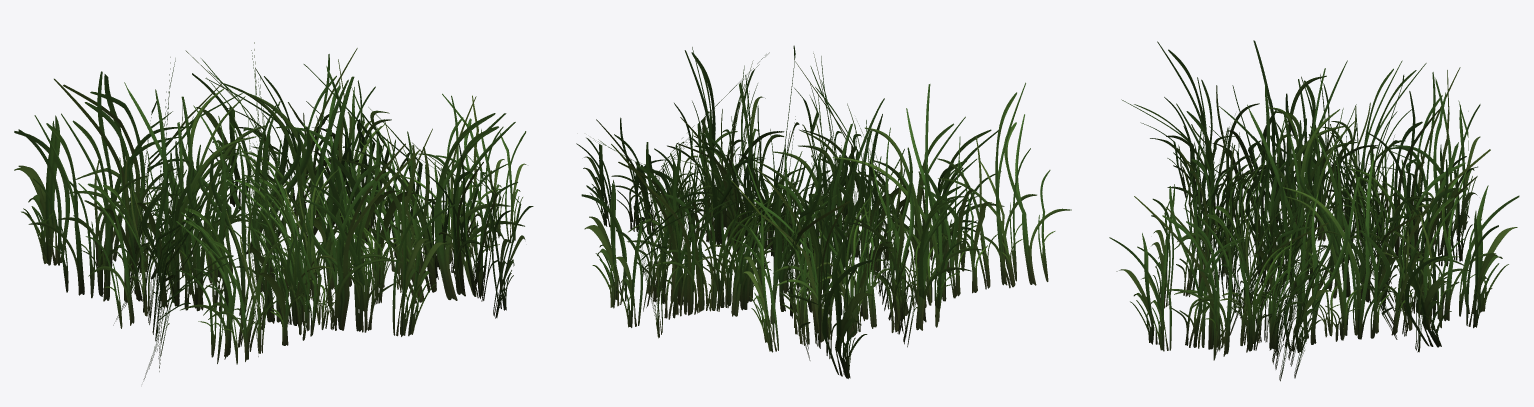
File: grass.obj
3 renders of one model, left to right at view 1: azimuth 30°, elevation 25°; view 2: azimuth 150°, elevation 25°; view 3: azimuth 270°, elevation 25°, orthographic. The views are drawn at different scales.
Visible parts, largest first — view 1: GrassPatch01, GrassPatch02, GrassPatch01_LoD_GrassPatch01.002, GrassPatch02_LoD_GrassPatch02.001; view 2: GrassPatch01, GrassPatch01_LoD_GrassPatch01.002, GrassPatch02, GrassPatch02_LoD_GrassPatch02.001; view 3: GrassPatch02, GrassPatch01, GrassPatch02_LoD_GrassPatch02.001, GrassPatch01_LoD_GrassPatch01.002.
Boxes of the visible parts, x1,y1,x2,y2 form: GrassPatch01: [14, 50, 510, 363]; GrassPatch02: [28, 64, 533, 381]; GrassPatch01_LoD_GrassPatch01.002: [18, 42, 524, 364]; GrassPatch02_LoD_GrassPatch02.001: [58, 57, 511, 371]; GrassPatch01: [581, 45, 1004, 378]; GrassPatch01_LoD_GrassPatch01.002: [586, 47, 977, 378]; GrassPatch02: [584, 52, 1071, 352]; GrassPatch02_LoD_GrassPatch02.001: [576, 53, 1036, 342]; GrassPatch02: [1109, 60, 1495, 381]; GrassPatch01: [1173, 70, 1519, 354]; GrassPatch02_LoD_GrassPatch02.001: [1137, 40, 1469, 378]; GrassPatch01_LoD_GrassPatch01.002: [1167, 67, 1498, 360].
Bounding box in the file's own units: 72.27 × 35.82 × 63.06.
1 material, 1 textured.
